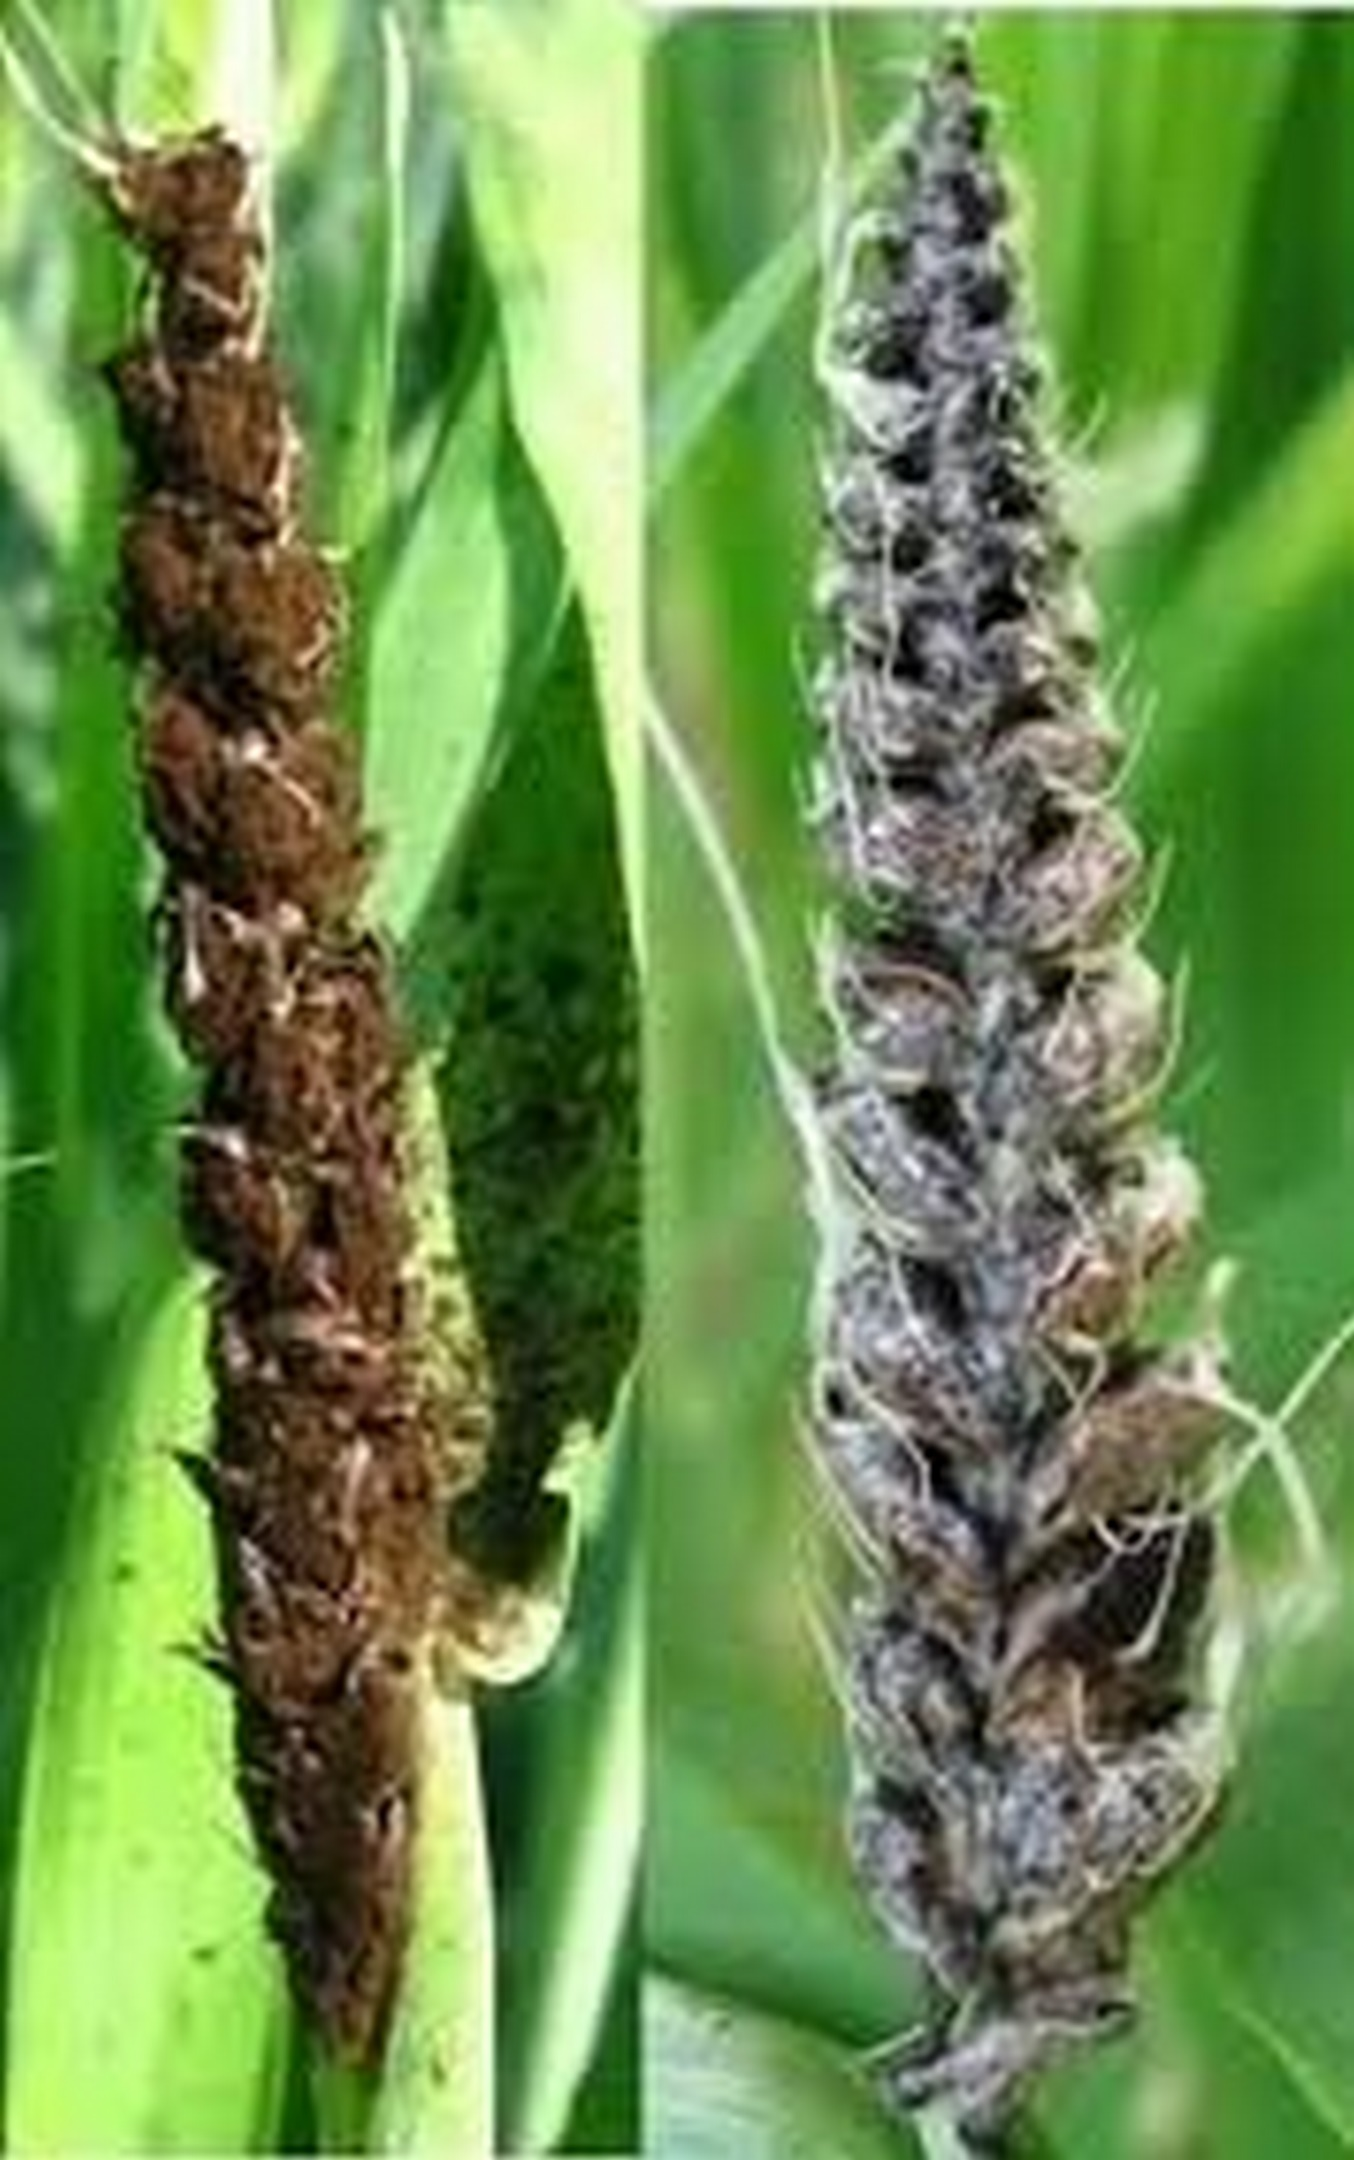Wheat Loose Smut: (713, 89, 1276, 1949), (69, 125, 527, 1978)
